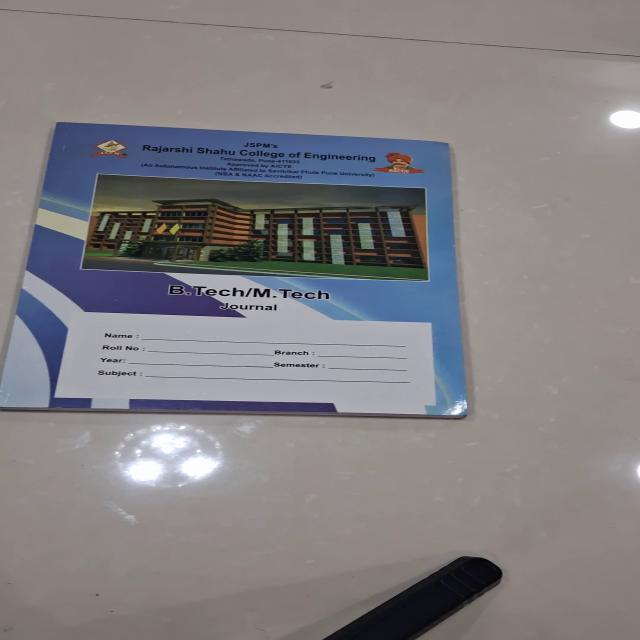paper: (2, 121, 469, 418)
